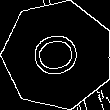O_E: (28, 28, 88, 82)
